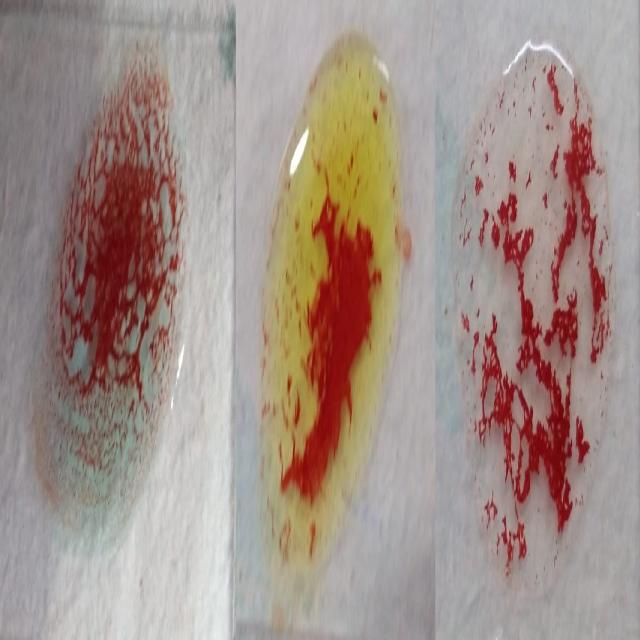A: (33, 47, 178, 556)
B: (258, 22, 398, 558)
D: (453, 37, 601, 567)
